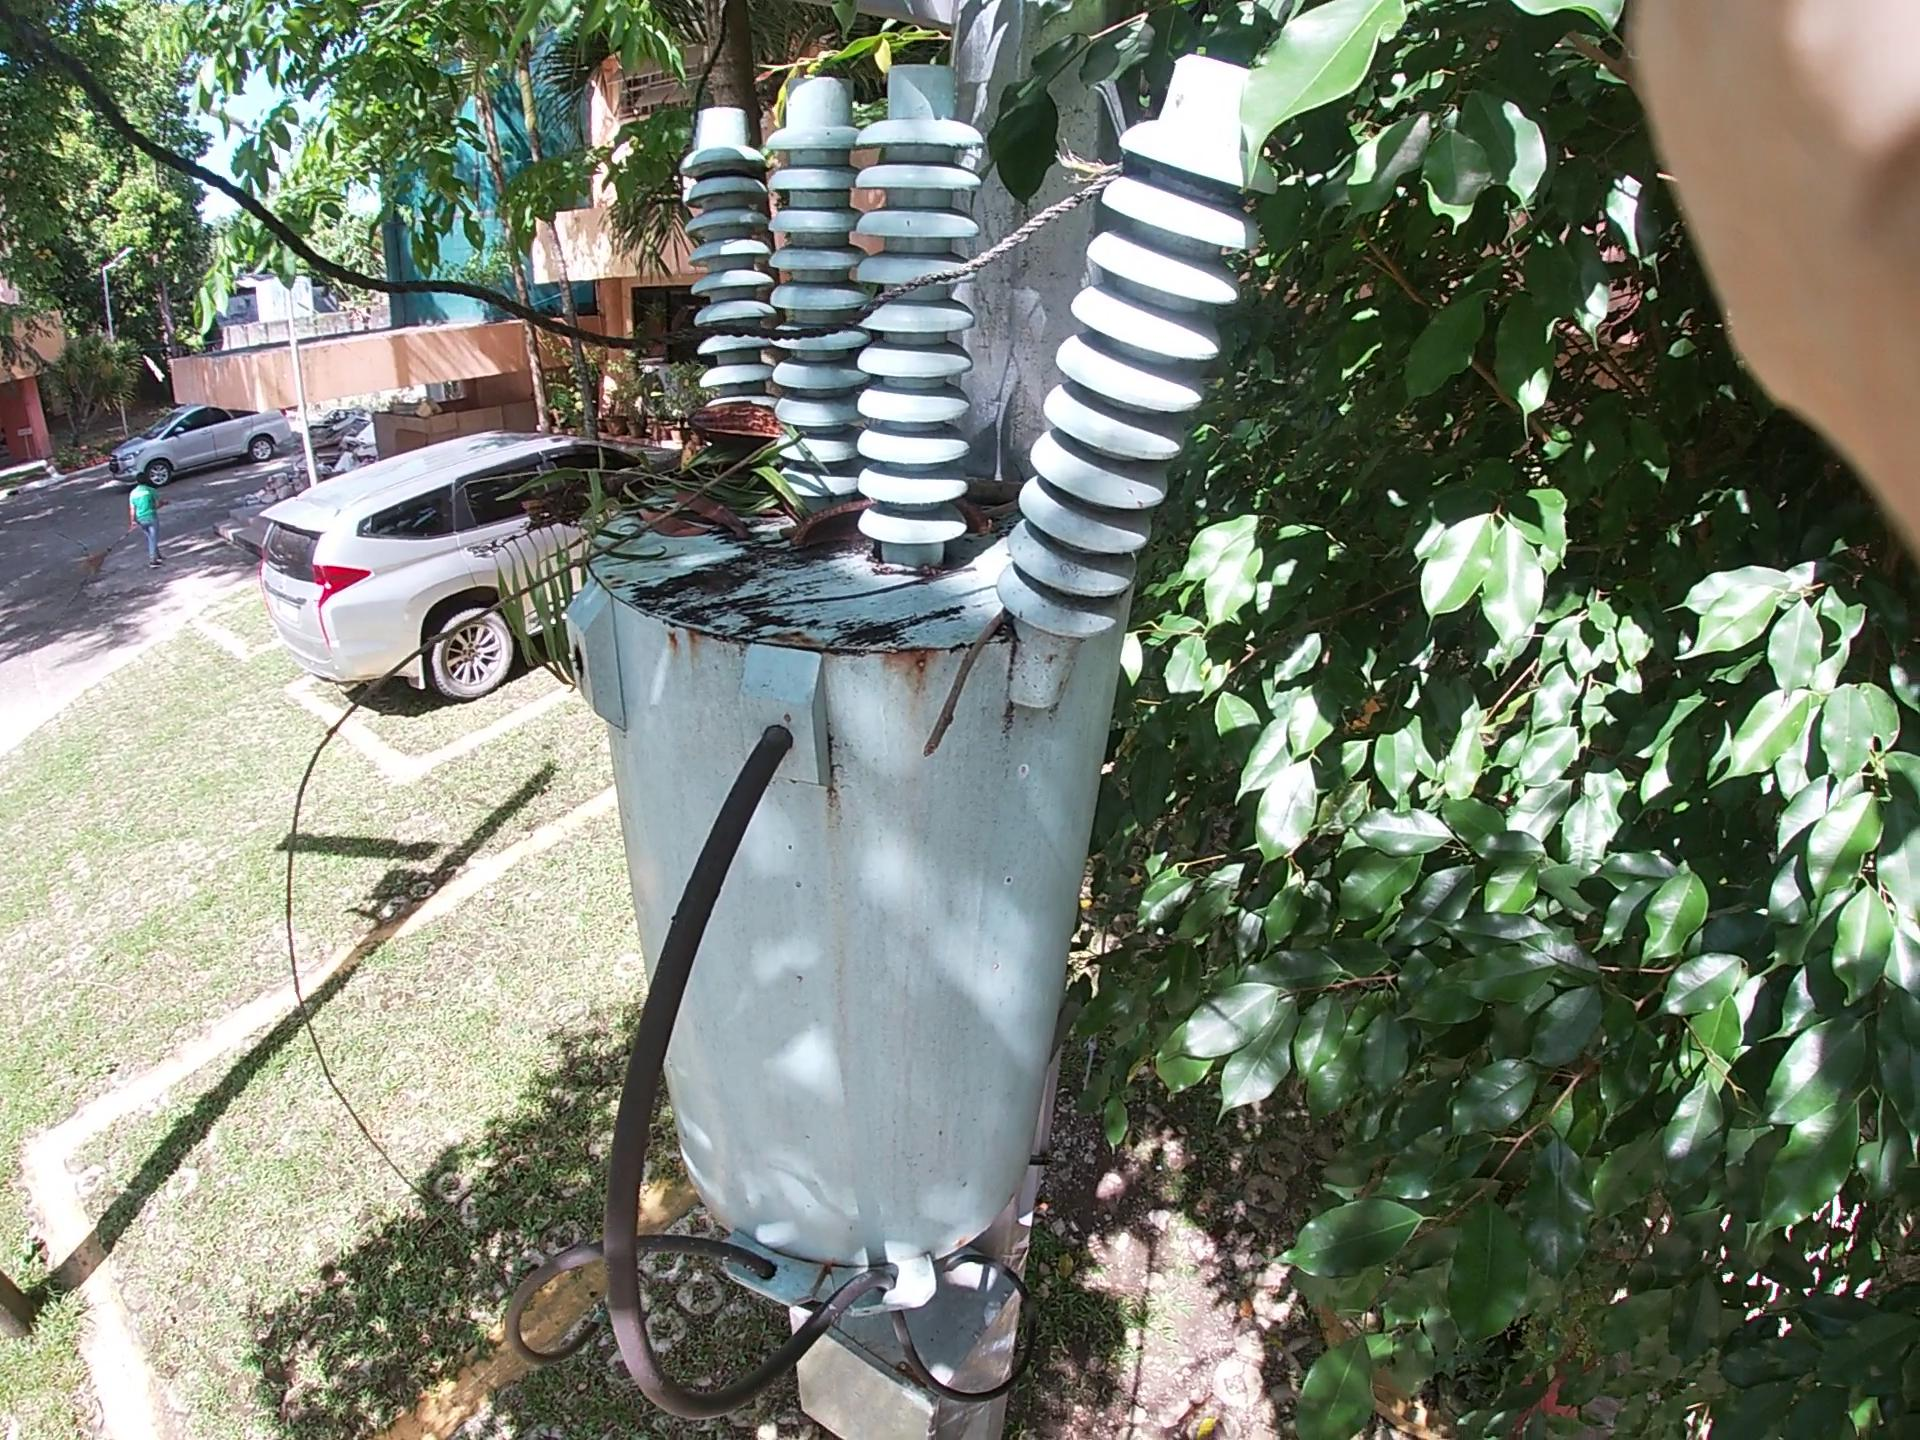branch with leaves: (443, 257, 980, 646)
mahogany fruit: (579, 352, 872, 501), (777, 442, 1073, 540)
tree branch: (168, 430, 850, 961), (854, 554, 1072, 797)
